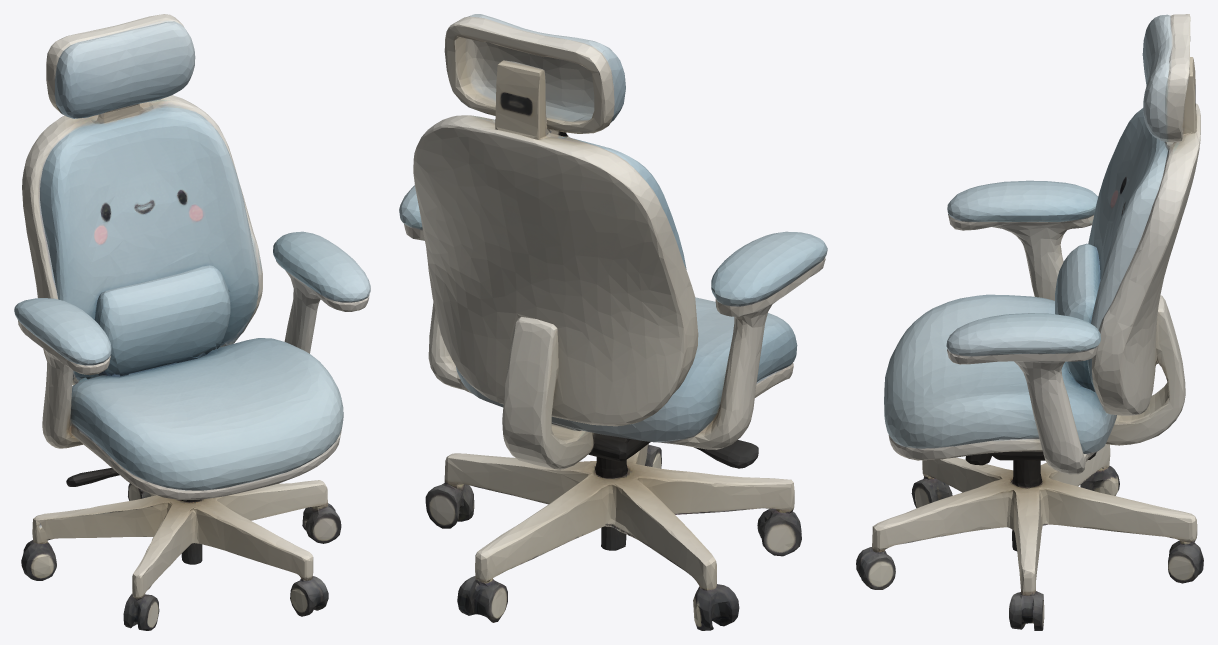
Rendered from chairv1.glb.
3 views of the same model, side by side, from view 1: azimuth 30°, elevation 25°; view 2: azimuth 150°, elevation 25°; view 3: azimuth 270°, elevation 25° (orthographic). The views are drawn at different scales.
Parts seen in each view (by area): view 1: world; view 2: world; view 3: world.
Boxes of the visible parts, x1=… form: world: x1=14, y1=14, x2=370, y2=630; world: x1=399, y1=14, x2=827, y2=630; world: x1=856, y1=14, x2=1203, y2=630.
Bounding box in the file's own units: 0.6592 × 0.9999 × 0.6042.
1 material, 1 textured.
